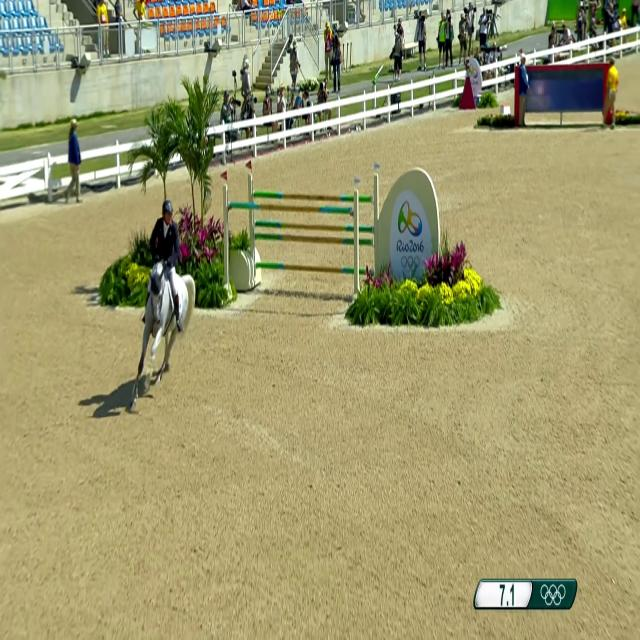Horse Running: (145, 200, 252, 416)
